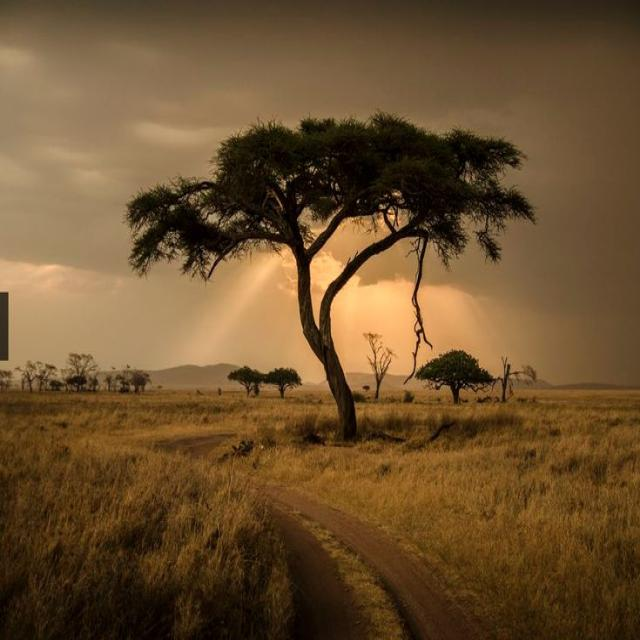Acacia: (127, 106, 532, 422)
